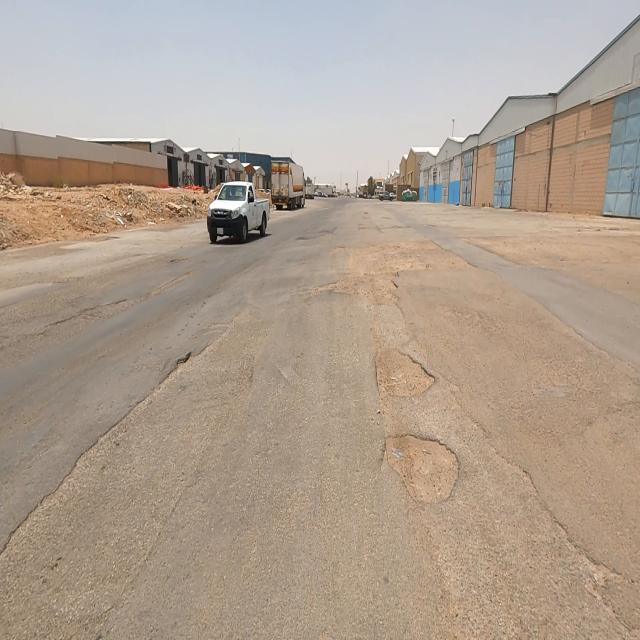Pothole: (0, 347, 220, 638), (34, 300, 138, 350), (386, 436, 458, 502), (376, 351, 434, 396)
